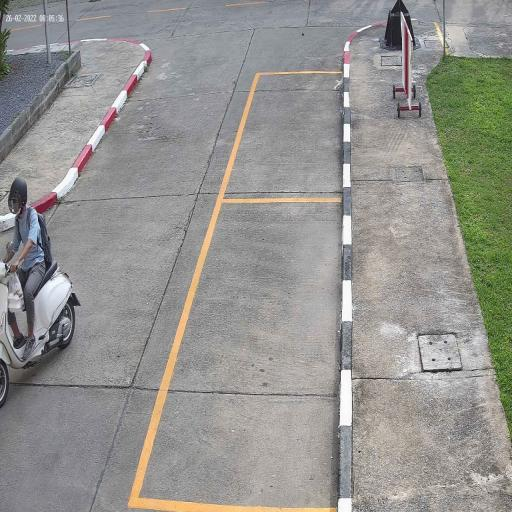motorcycle: (0, 260, 81, 406)
